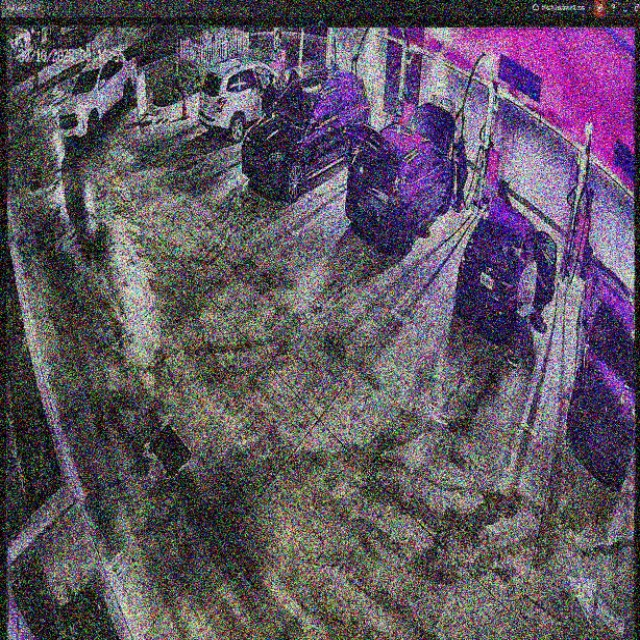Car: (348, 103, 455, 256), (242, 70, 371, 195), (455, 194, 558, 346)
